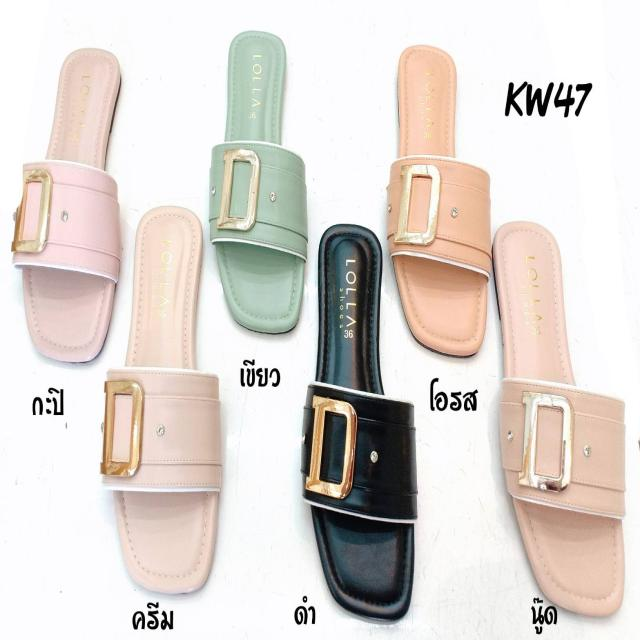black: (310, 218, 414, 613)
cream: (121, 212, 218, 597)
green: (220, 29, 307, 330)
kapi: (26, 44, 124, 358)
nood: (503, 220, 623, 624)
orot: (394, 49, 486, 345)
